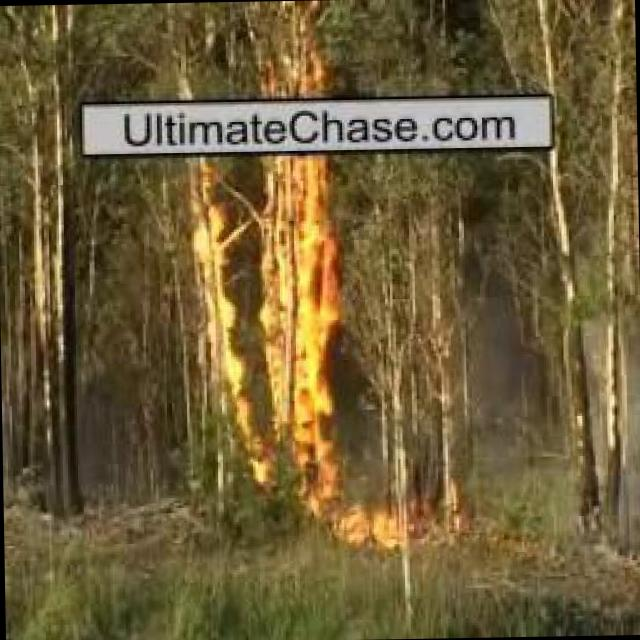Fire: (189, 156, 360, 488), (21, 146, 92, 403), (305, 492, 429, 554), (253, 17, 325, 98)
